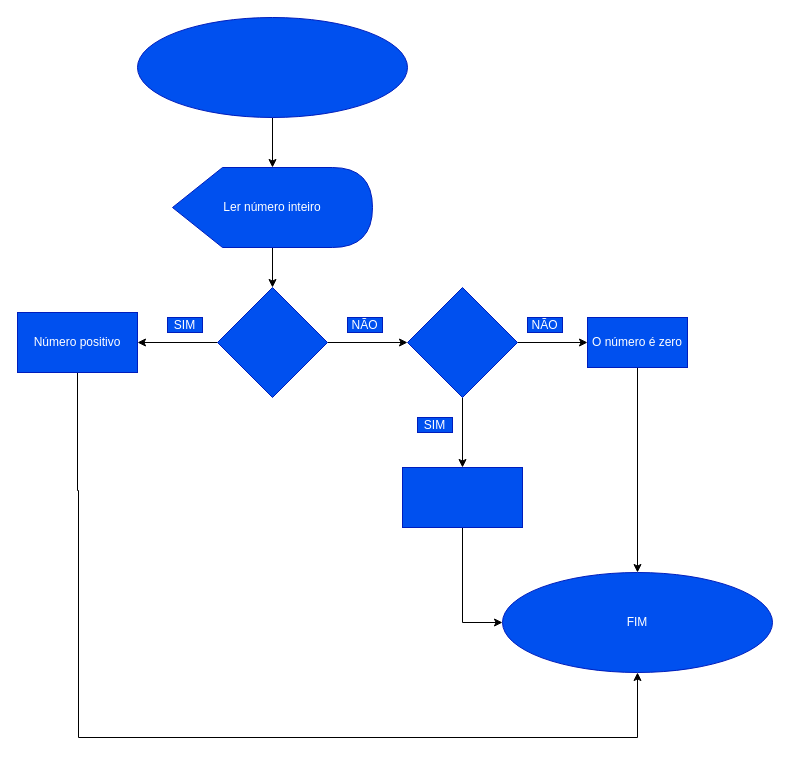
Some shapes in this 790 by 763 pixel diagram are drawn without their labels. The shapes that lost their labels are listed below. From the top down, each one's centre as x and y in pixels, then its label:
the point at 272,67: INICIO
the point at 272,342: n >0?
the point at 462,342: N < 0?
the point at 462,497: Número negativo
